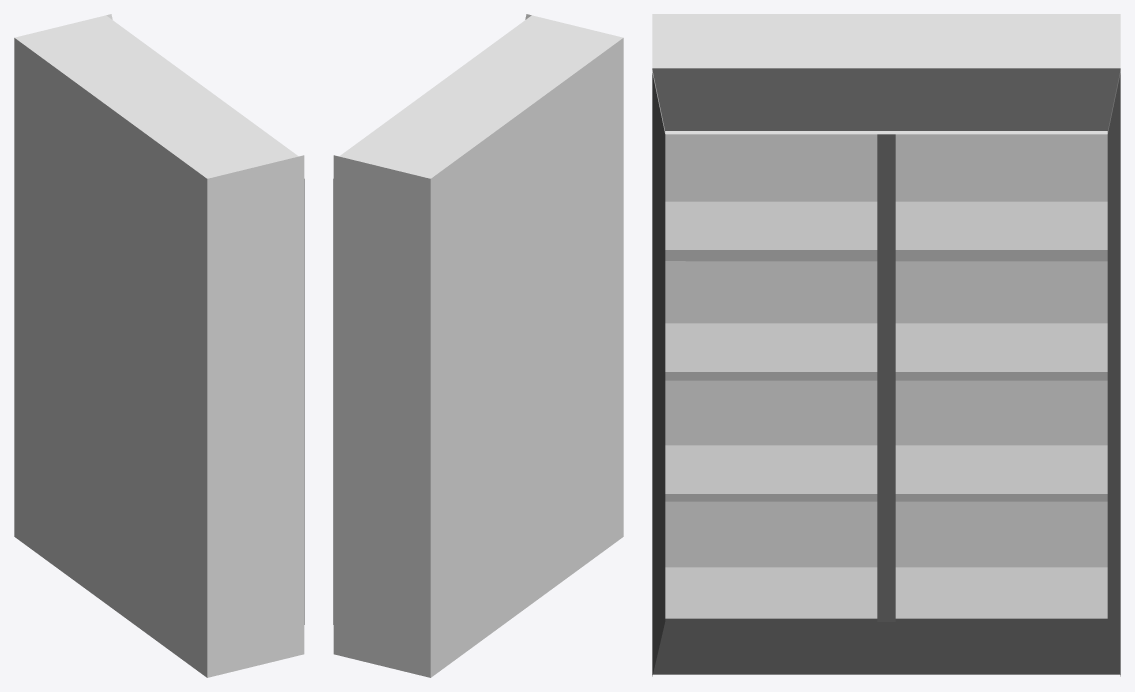
File: Fridge.fbx
3 views of the same model, side by side, from view 1: azimuth 30°, elevation 25°; view 2: azimuth 150°, elevation 25°; view 3: azimuth 270°, elevation 25° (orthographic). The views are drawn at different scales.
Parts seen in each view (by area): view 1: Cube.001; view 2: Cube.001; view 3: Cube.001.
Boxes of the visible parts, x1,y1,x2,y2 form: Cube.001: (14, 14, 304, 677); Cube.001: (333, 14, 623, 677); Cube.001: (652, 14, 1120, 676).
Size of the model in its own units: 345 by 1603 by 1123.
1 material, 1 textured.
